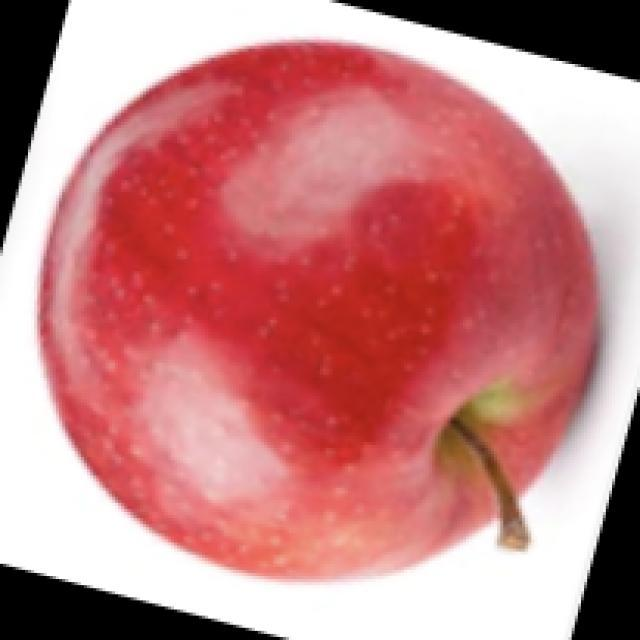Fresh Apple: (60, 58, 582, 602)
